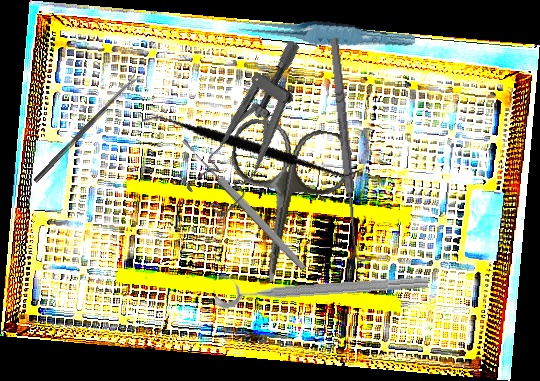Fixation Ring: (213, 258, 429, 310)
Hook Surgical: (326, 36, 373, 264)
Iris Scissors: (211, 115, 355, 293)
Spatula Surgical: (140, 61, 364, 229)
Speculum: (164, 38, 346, 221)
Surgical Spoon: (180, 136, 307, 272), (33, 74, 139, 184)
Tissue Forceps: (235, 6, 416, 60)
